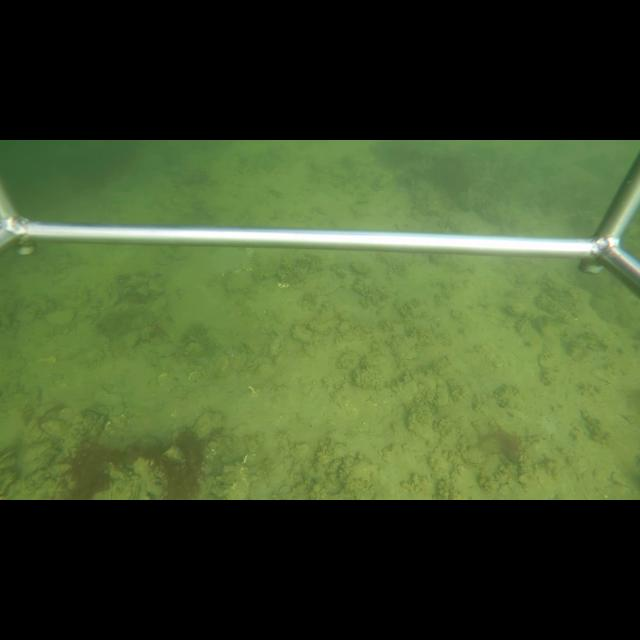Oyster-Closed: (289, 322, 318, 345), (459, 445, 487, 467)
Oyster-Open: (176, 333, 206, 358)
